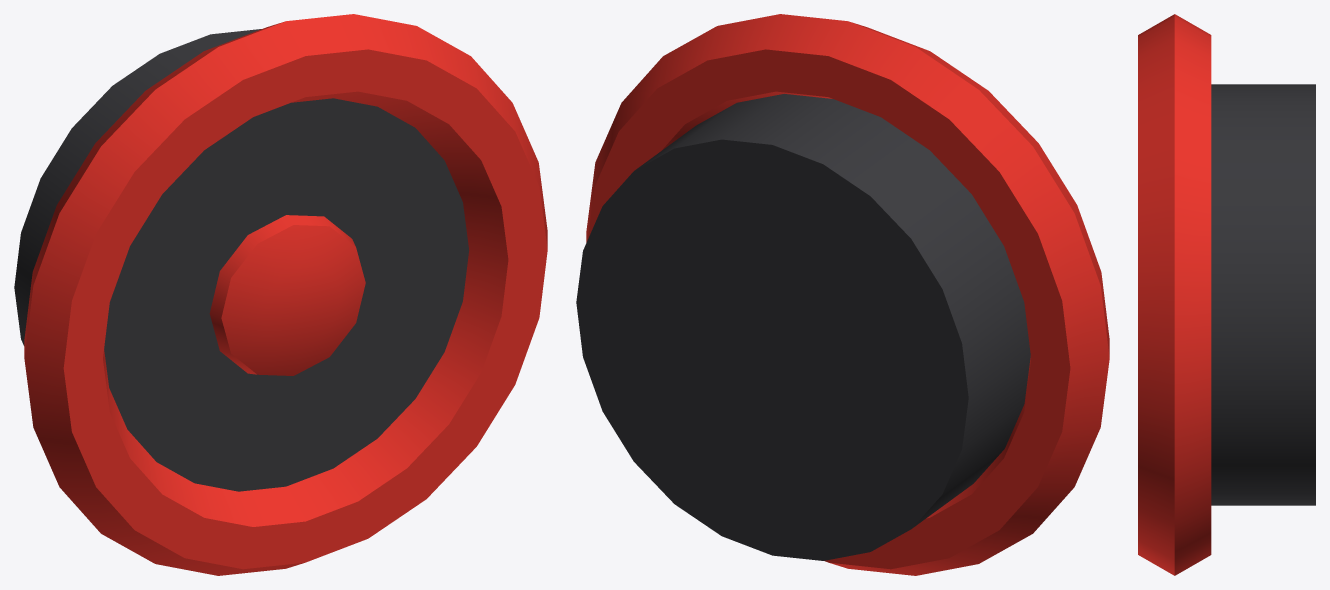
Rendered from halo.glb.
3 views of the same model, side by side, from view 1: azimuth 30°, elevation 25°; view 2: azimuth 150°, elevation 25°; view 3: azimuth 270°, elevation 25° (orthographic). The views are drawn at different scales.
Parts seen in each view (by area): view 1: lod0; view 2: lod0; view 3: lod0.
Part boxes in pixels (<box>): lod0: <box>14,14,547,575</box>; lod0: <box>576,14,1109,575</box>; lod0: <box>1138,14,1315,575</box>.
Size of what is drawn, in the model's own units: 0.08 by 0.08 by 0.0252.
